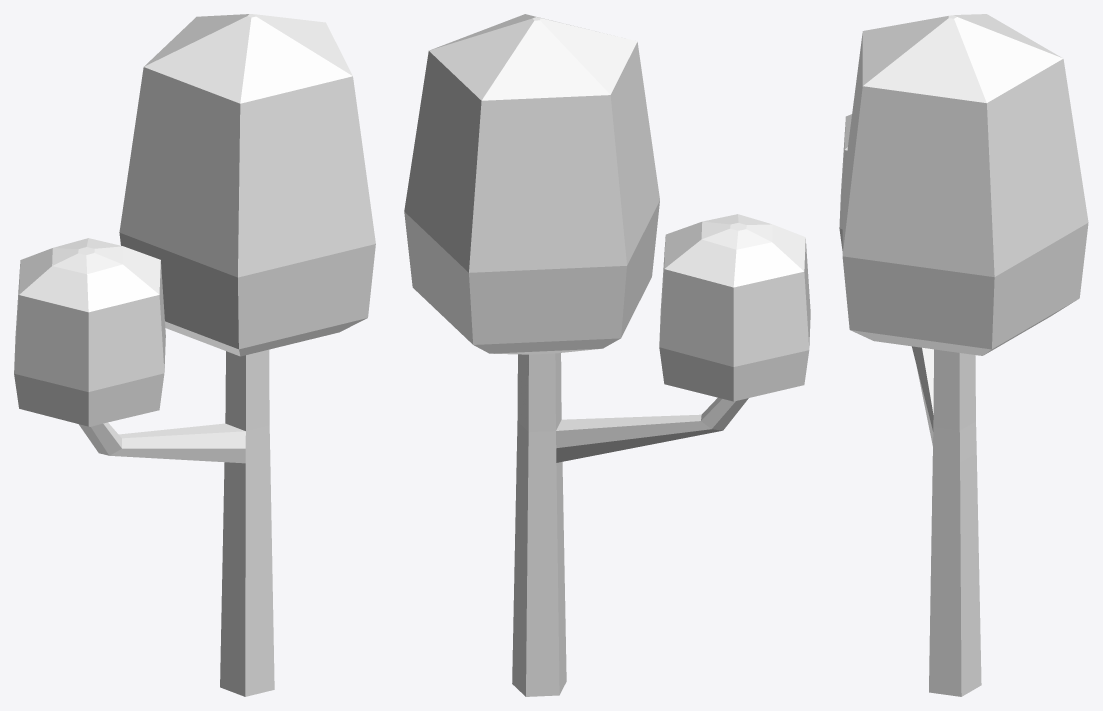
File: tree2.glb
3 renders of one model, left to right at view 1: azimuth 30°, elevation 25°; view 2: azimuth 150°, elevation 25°; view 3: azimuth 270°, elevation 25°, orthographic.
Parts seen in each view (by area): view 1: tree.002; view 2: tree.002; view 3: tree.002.
Boxes of the visible parts, x1,y1,x2,y2 form: tree.002: [14, 14, 375, 696]; tree.002: [404, 14, 810, 696]; tree.002: [839, 14, 1088, 696].
Size of the model in its own units: 3.42 by 5.94 by 2.
Materials: 1 (1 with a texture image).
